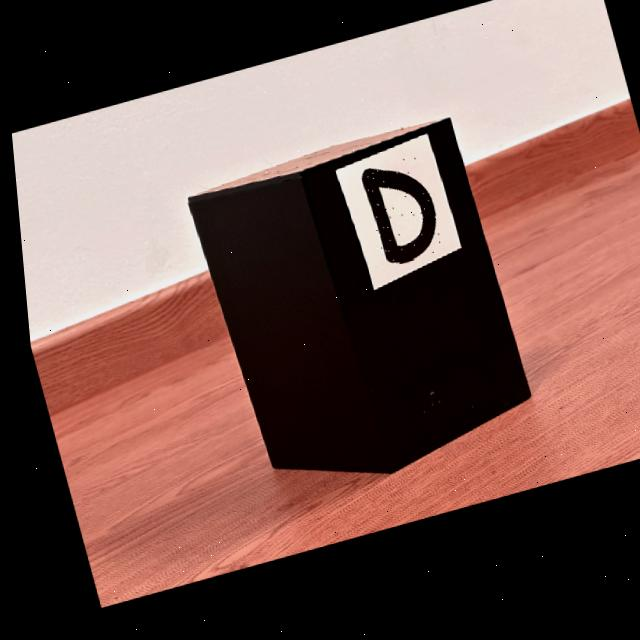D: (357, 176, 431, 271)
